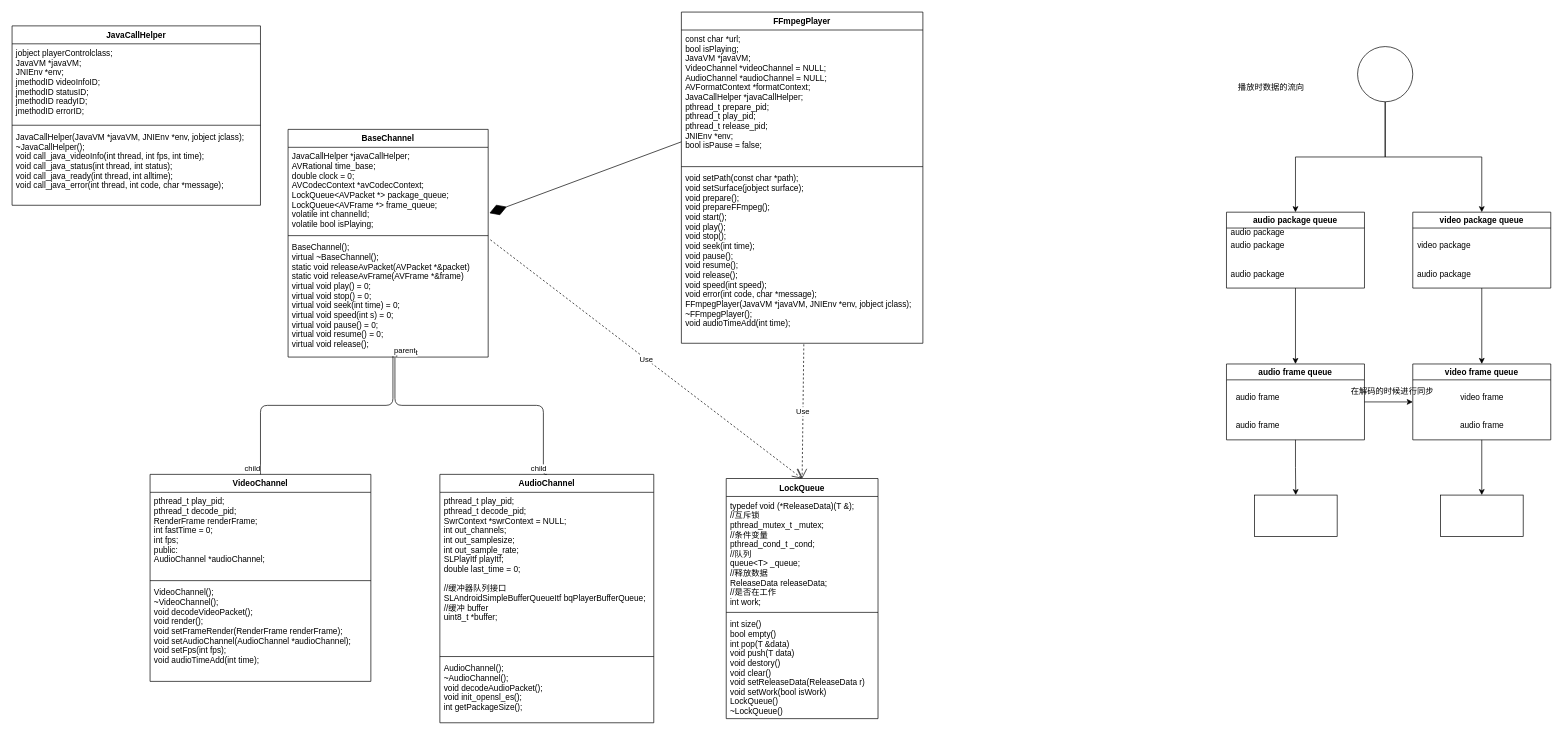
The diagram is 1563 pixels wide and 737 high, and some of its shapes have lost their labels. The shapes that lost their labels are listed below. From the top down, each one's centre as x and y in pixels, then its label:
(x=1385, y=74): ffmpeg开始解析文件
(x=1295, y=515): opensl es 队列音频播放开始
(x=1481, y=515): 将视频帧数据绘制到native_windows上
